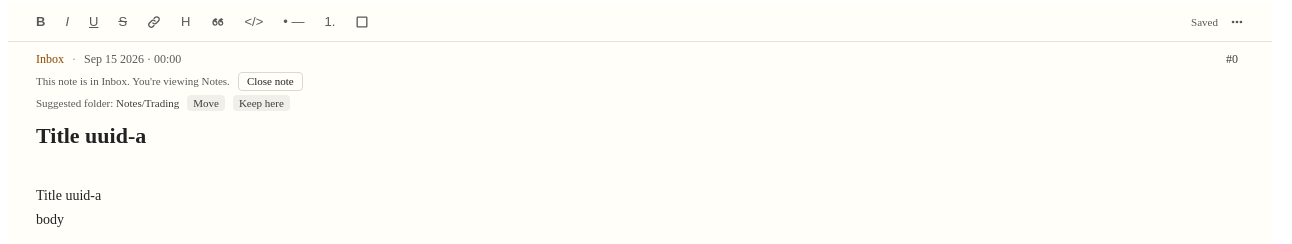
Scenario: folder suggestion chip › a proposed folder that has disappeared removes the chip instead of moving
Click the button "Move": (206,103) [187,94,225,111]
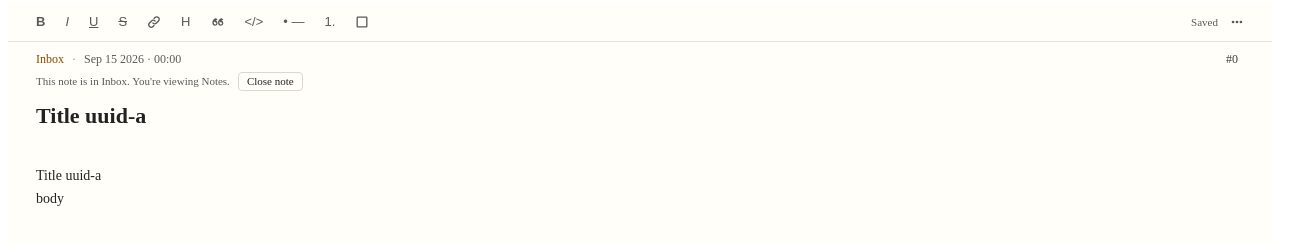
Expected: the element with test id "folder-suggestion" is gone
